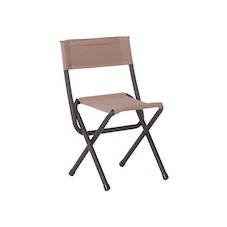chair: (46, 20, 186, 191)
